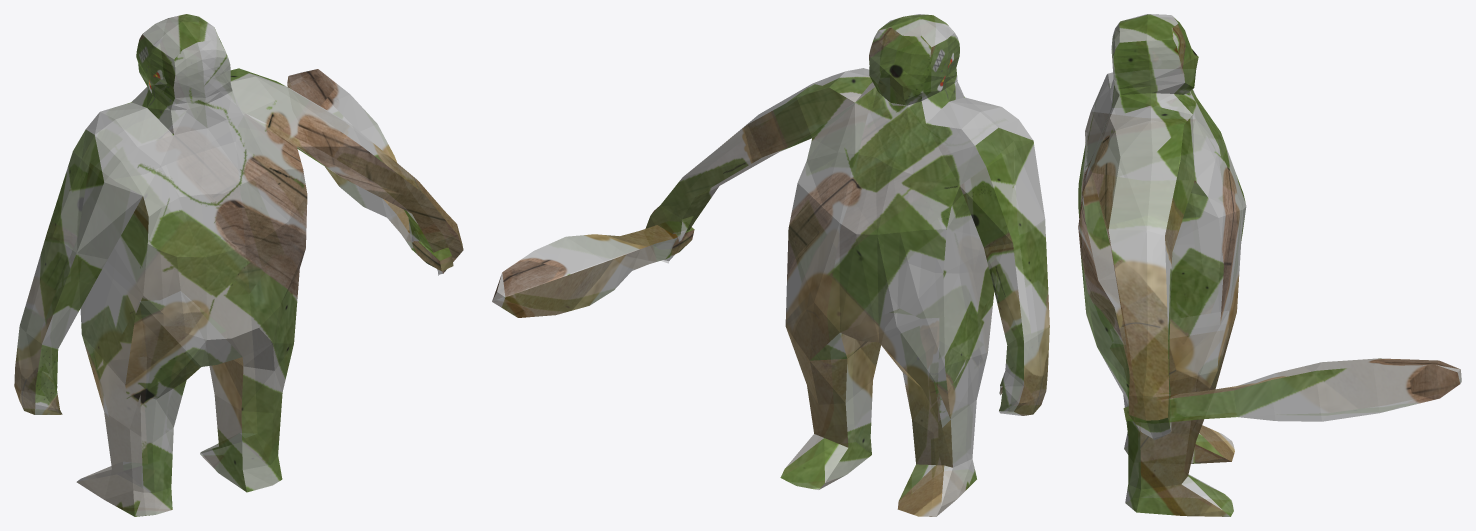
The model's file is Enemigo224.obj.
3 renders of one model, left to right at view 1: azimuth 30°, elevation 25°; view 2: azimuth 150°, elevation 25°; view 3: azimuth 270°, elevation 25°, orthographic. The views are drawn at different scales.
Parts seen in each view (by area): view 1: Cube; view 2: Cube; view 3: Cube.
Part boxes in pixels (left/top/right/bottom): Cube: left=14, top=14, right=463, bottom=516; Cube: left=492, top=14, right=1049, bottom=516; Cube: left=1078, top=14, right=1461, bottom=516.
Bounding box in the file's own units: 2.6 × 2.71 × 2.05.
Materials: 1 (1 with a texture image).
